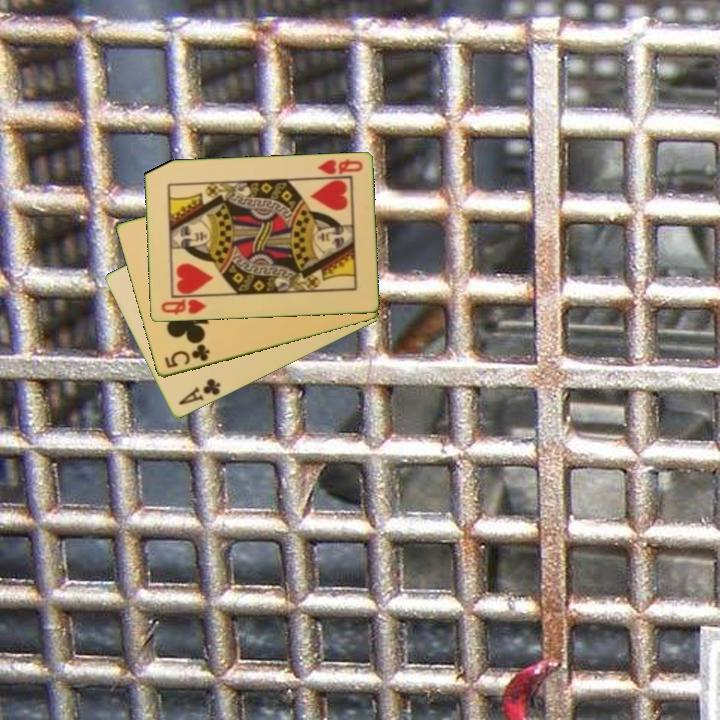5c: (161, 341, 212, 371)
Ac: (175, 375, 224, 408)
Qh: (313, 156, 366, 179), (157, 295, 209, 318)
